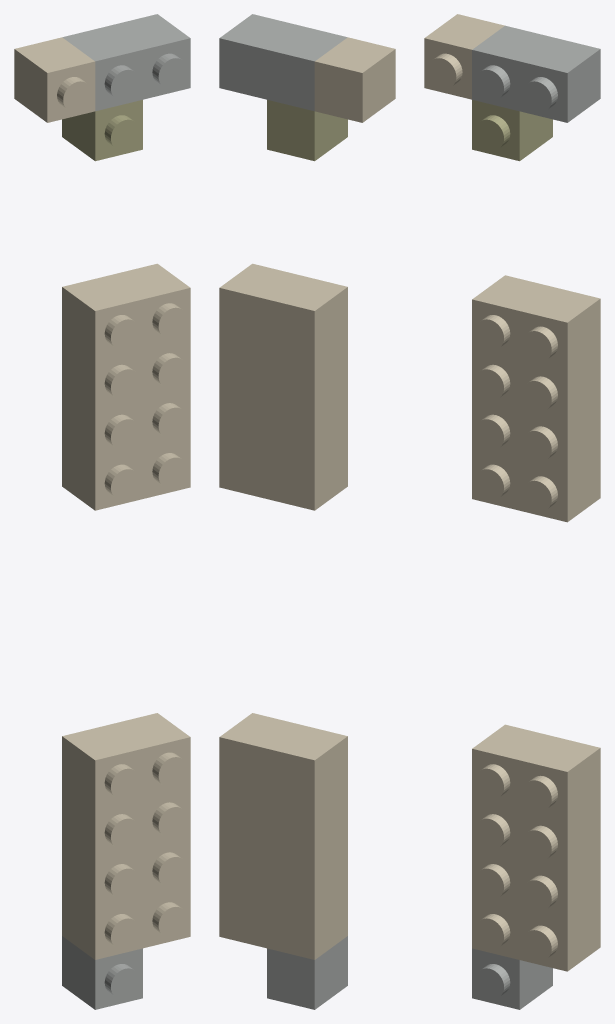
File: current.glb
The picture shows the model from 3 angles, left to right: view 1: azimuth 30°, elevation 25°; view 2: azimuth 150°, elevation 25°; view 3: azimuth 330°, elevation 25°; orthographic projection.
Parts seen in each view (by area): view 1: world; view 2: world; view 3: world.
Boxes of the visible parts, bbox=[...] form: world: bbox=[14, 14, 190, 1009]; world: bbox=[219, 14, 395, 1009]; world: bbox=[424, 14, 600, 1009].
Bounding box in the file's own units: 24 × 152 × 11.4.
